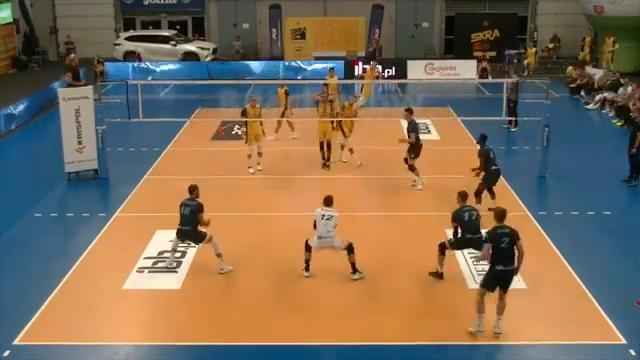Player: (469, 207, 523, 334), (167, 184, 232, 273), (429, 190, 482, 279), (472, 133, 501, 210), (399, 107, 423, 189), (313, 83, 334, 169), (337, 95, 362, 167), (268, 84, 297, 140), (358, 61, 377, 105), (326, 67, 340, 116), (326, 67, 340, 112), (251, 150, 257, 170)
Receive: (296, 190, 370, 283)
